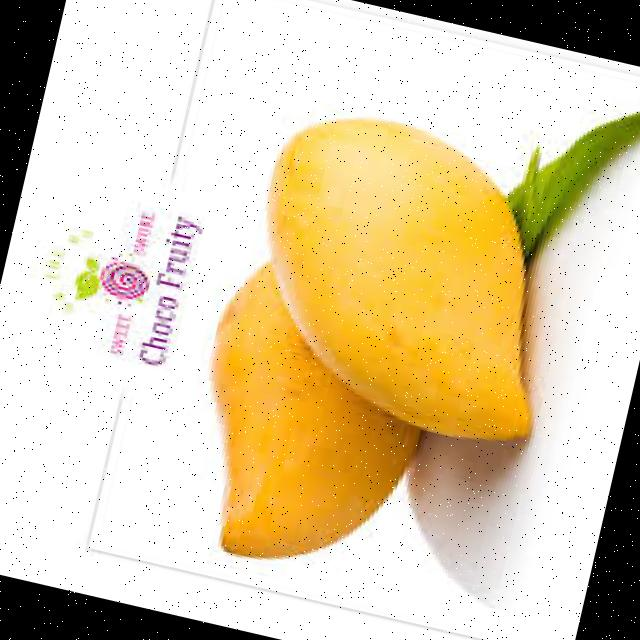mango: (265, 117, 530, 438)
